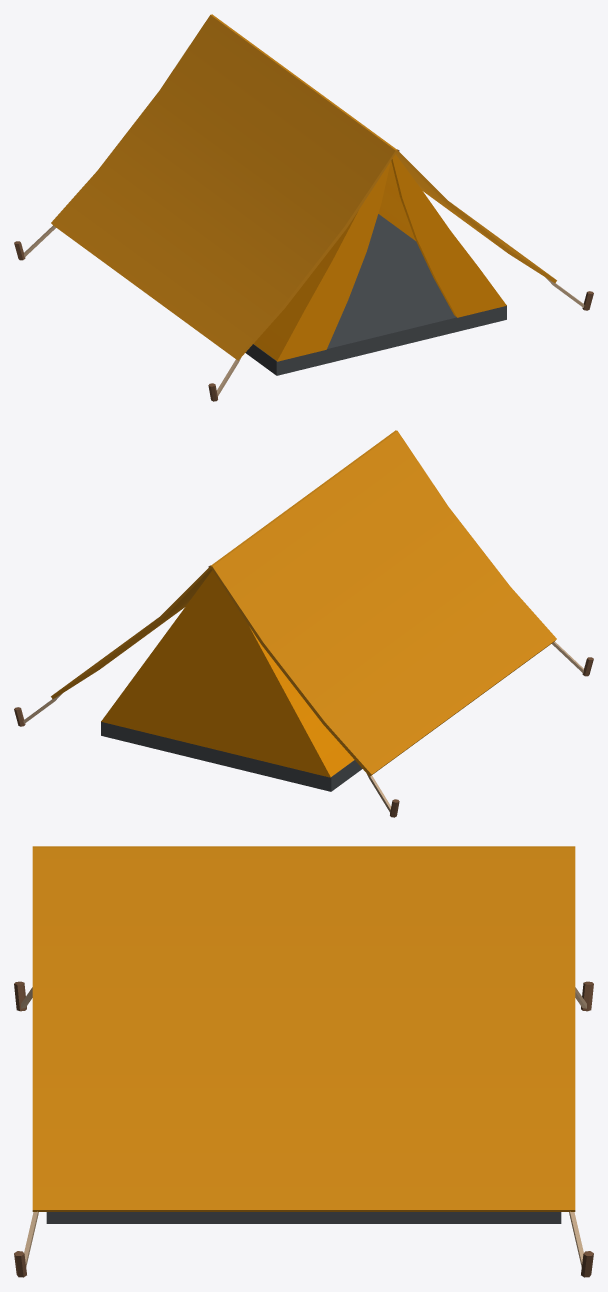
The model's file is Tent_02.glb.
The picture shows the model from 3 angles, top to bottom: view 1: azimuth 30°, elevation 25°; view 2: azimuth 150°, elevation 25°; view 3: azimuth 270°, elevation 25°; orthographic projection. The views are drawn at different scales.
Visible parts, largest first — view 1: Tent_02; view 2: Tent_02; view 3: Tent_02.
Part boxes in pixels (bbox=[...]): Tent_02: bbox=[14, 14, 593, 401]; Tent_02: bbox=[14, 430, 593, 817]; Tent_02: bbox=[14, 846, 593, 1277].
Bounding box in the file's own units: 2.29 × 1.15 × 2.04.
Materials: 1 (1 with a texture image).
